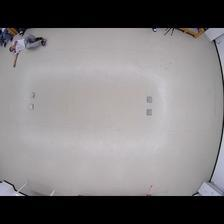fall: (7, 35, 47, 68)
